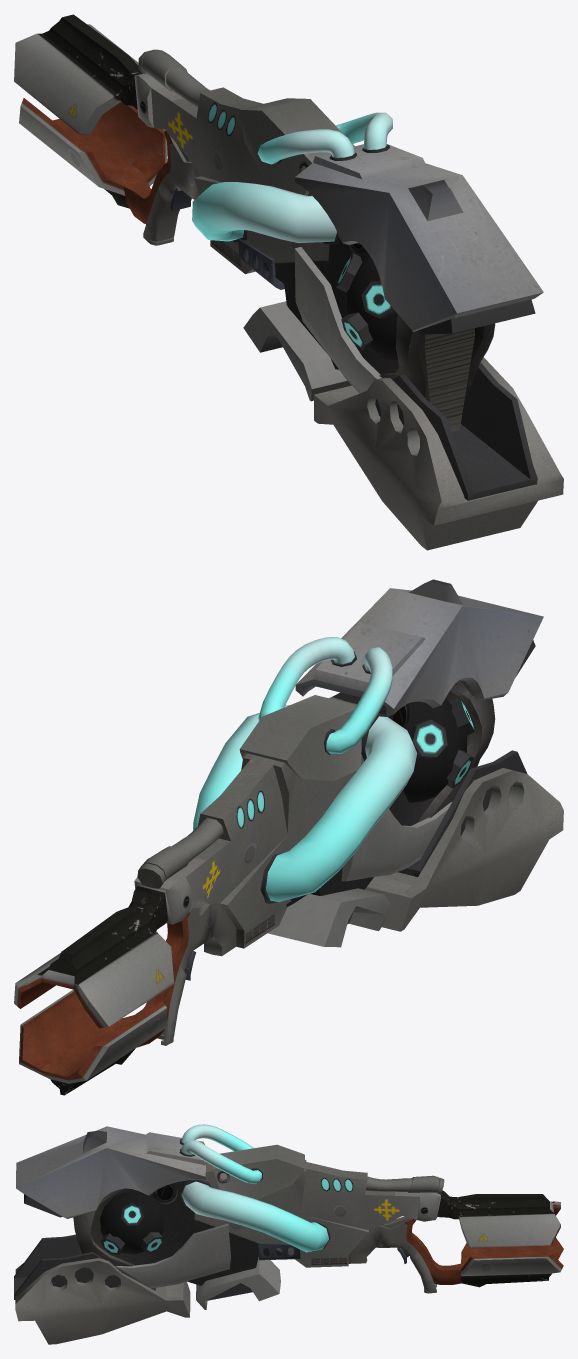
Rendered from Gravity Gun.fbx.
3 views of the same model, one above another, from view 1: azimuth 30°, elevation 25°; view 2: azimuth 150°, elevation 25°; view 3: azimuth 270°, elevation 25° (orthographic). The views are drawn at different scales.
Parts seen in each view (by area): view 1: GravityGun; view 2: GravityGun; view 3: GravityGun.
Part boxes in pixels (x1,y1,x2,y2): GravityGun: [14, 14, 563, 550]; GravityGun: [14, 579, 563, 1095]; GravityGun: [14, 1124, 563, 1344].
Size of the model in its own units: 18.23 by 32.89 by 83.08.
Materials: 1 (1 with a texture image).
